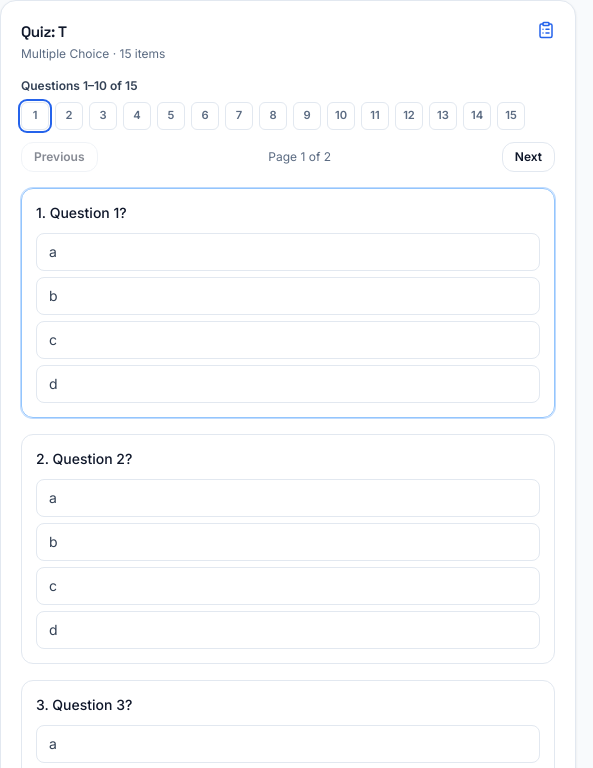
Test: QuizCard — long quiz taking (navigator + pagination) › answered questions are visually distinguished in the navigator
Expected: the button named "Question 1, unanswered" is shown, x1=21 y1=102 x2=49 y2=130
What coordinates should you click on to do the following:
click the button "a" below "Question 1?"
I would click on:
 (53, 251)
Its box is x1=36 y1=233 x2=540 y2=271.
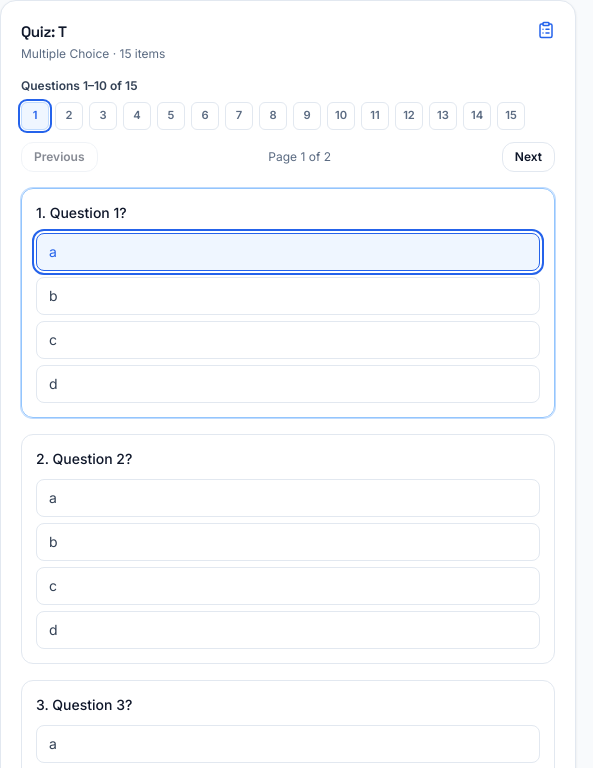
Expected: the button named "Question 1, answered" is shown, x1=21 y1=102 x2=49 y2=130
